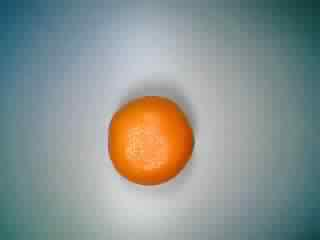orange: (103, 93, 200, 189)
